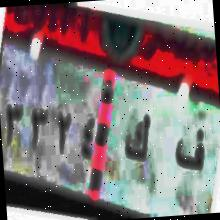2: (54, 107, 74, 161)
3: (26, 101, 52, 156)
4: (78, 118, 97, 166)
faa: (172, 122, 210, 183)
kaaf: (122, 107, 153, 171)
